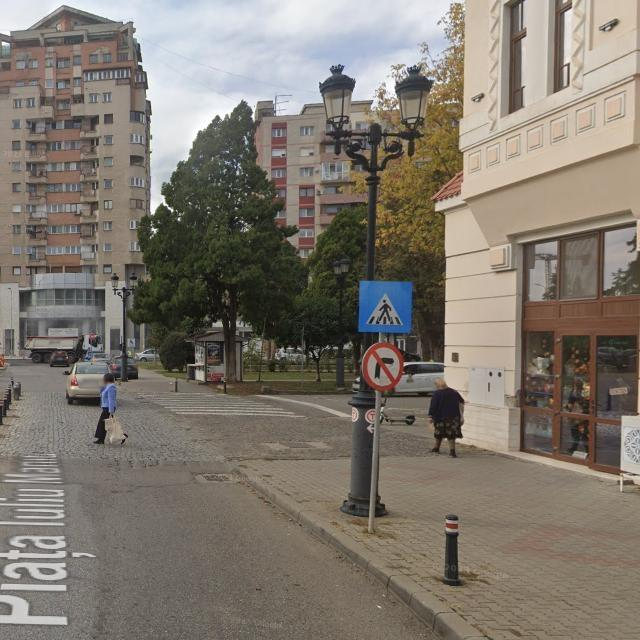info_crosswalk: (358, 280, 413, 333)
